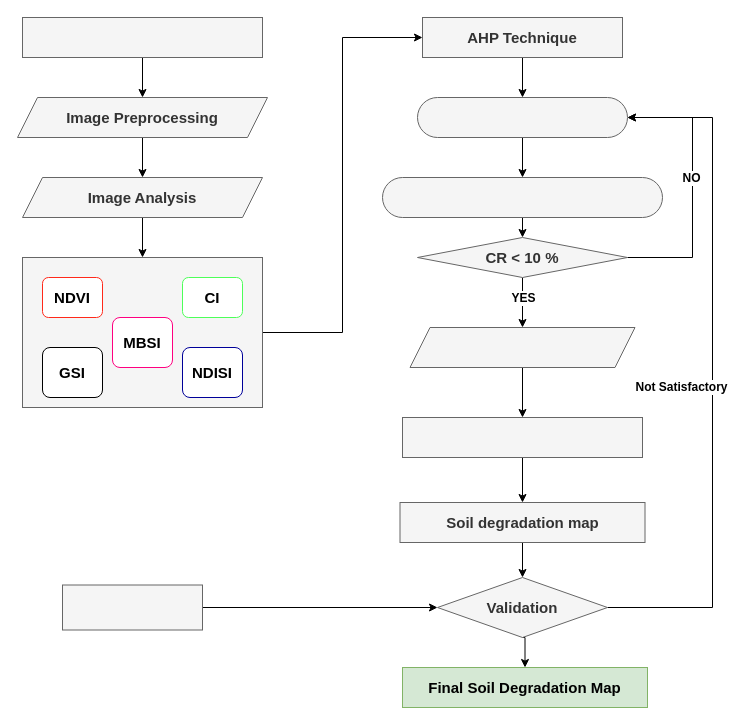
Image size: 744x725. Some labels were removed from this diagram. Here are the shapes that lost their labels. From the top down, the box of each, then its label:
(22, 16, 262, 58): Satellite Image (SDGSAT-1 2024)
(416, 96, 628, 138): Expert evaluation
(382, 176, 662, 218): Pairwise comparison of scales/weight
(409, 326, 635, 368): Determine weights
(402, 416, 642, 458): Weighted Linear Combination
(62, 584, 202, 630): Soil Organic Carbon
